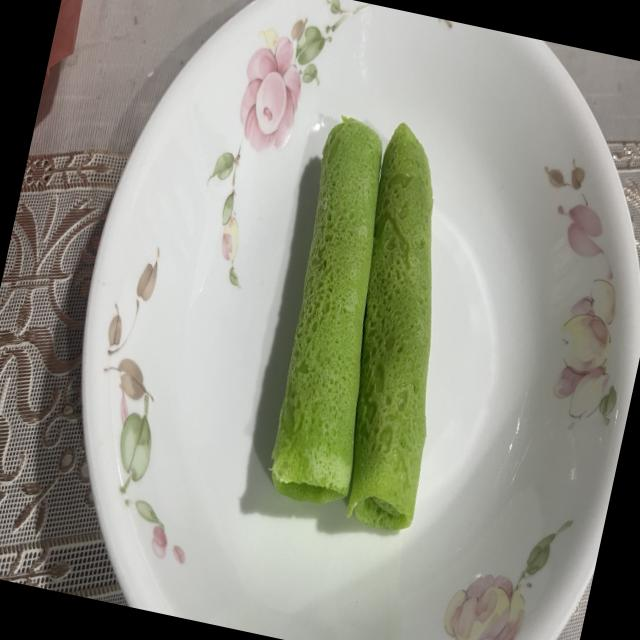Kuih-Ketayap: (271, 116, 432, 531), (346, 124, 433, 530)
